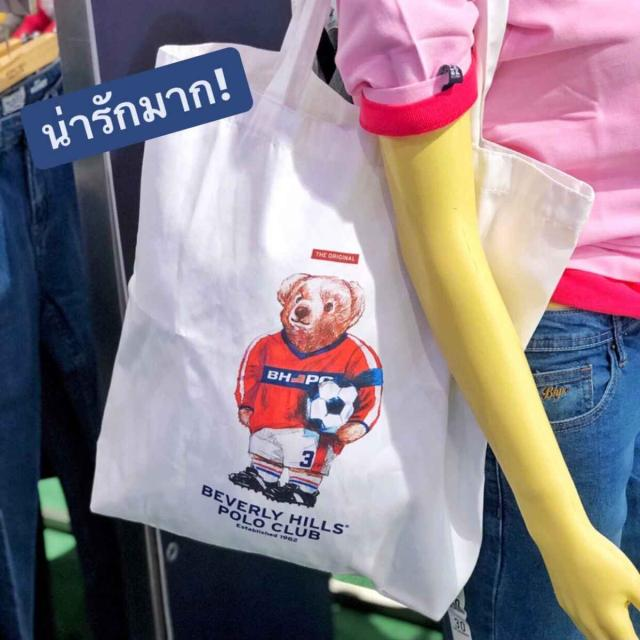Handbag: (87, 38, 584, 592)
